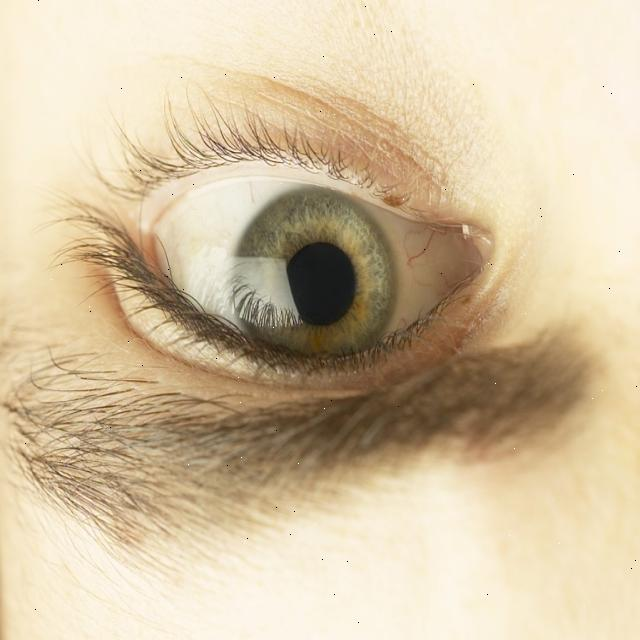Normal: (234, 192, 396, 389)
